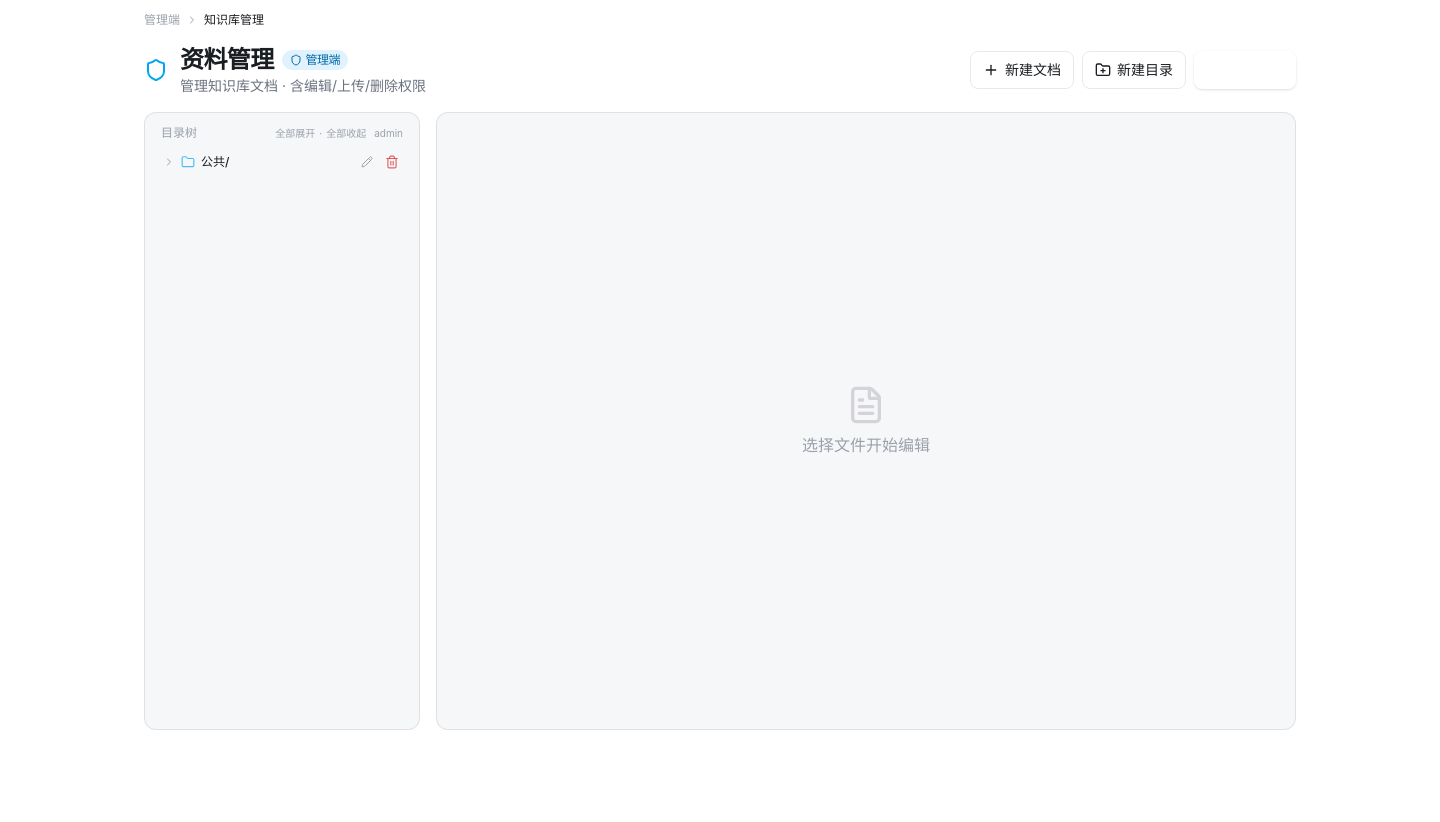
Test: 知识库：PDF 下载走鉴权下载 › 其它错误：给可读提示
The image size is (1440, 822).
Click the button "全部展开" at (295, 133), box x1=275 y1=126 x2=315 y2=140
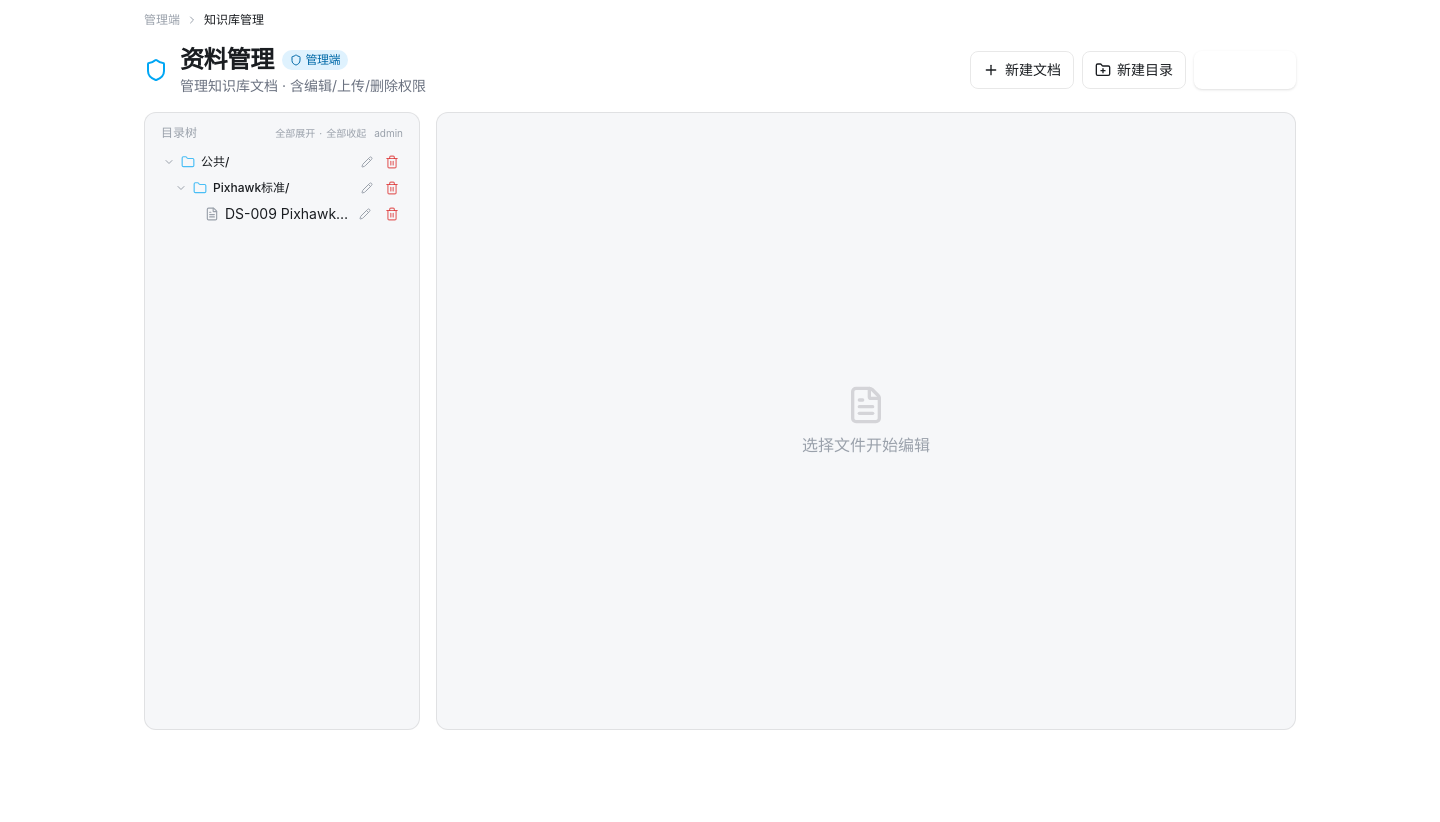
Click the button "DS-009 Pixhawk Connector Standard" at (304, 214), box x1=205 y1=203 x2=403 y2=225
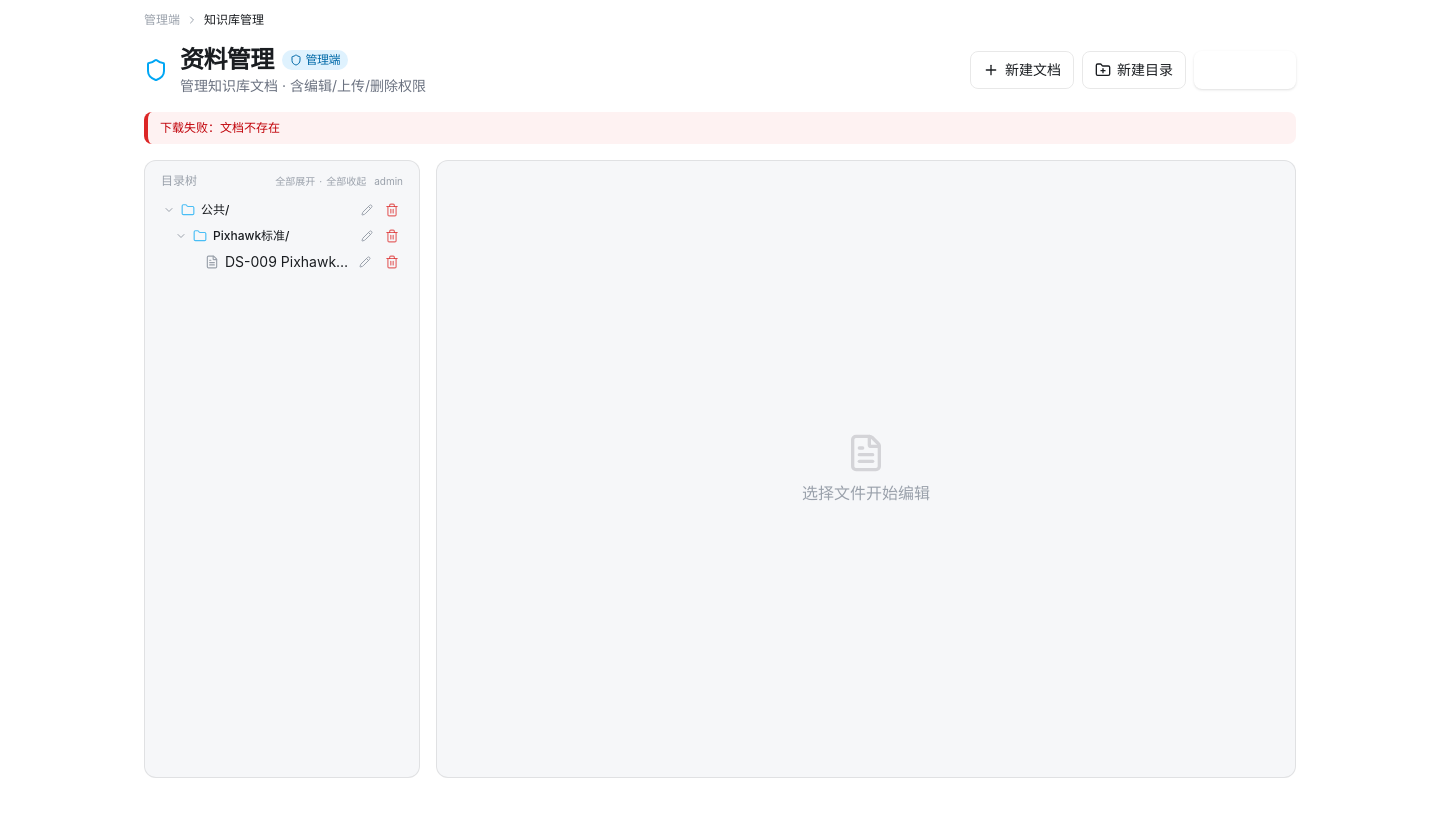
Check: the text with test id "download-status" reads "下载失败：文档不存在", box x1=160 y1=120 x2=280 y2=135
